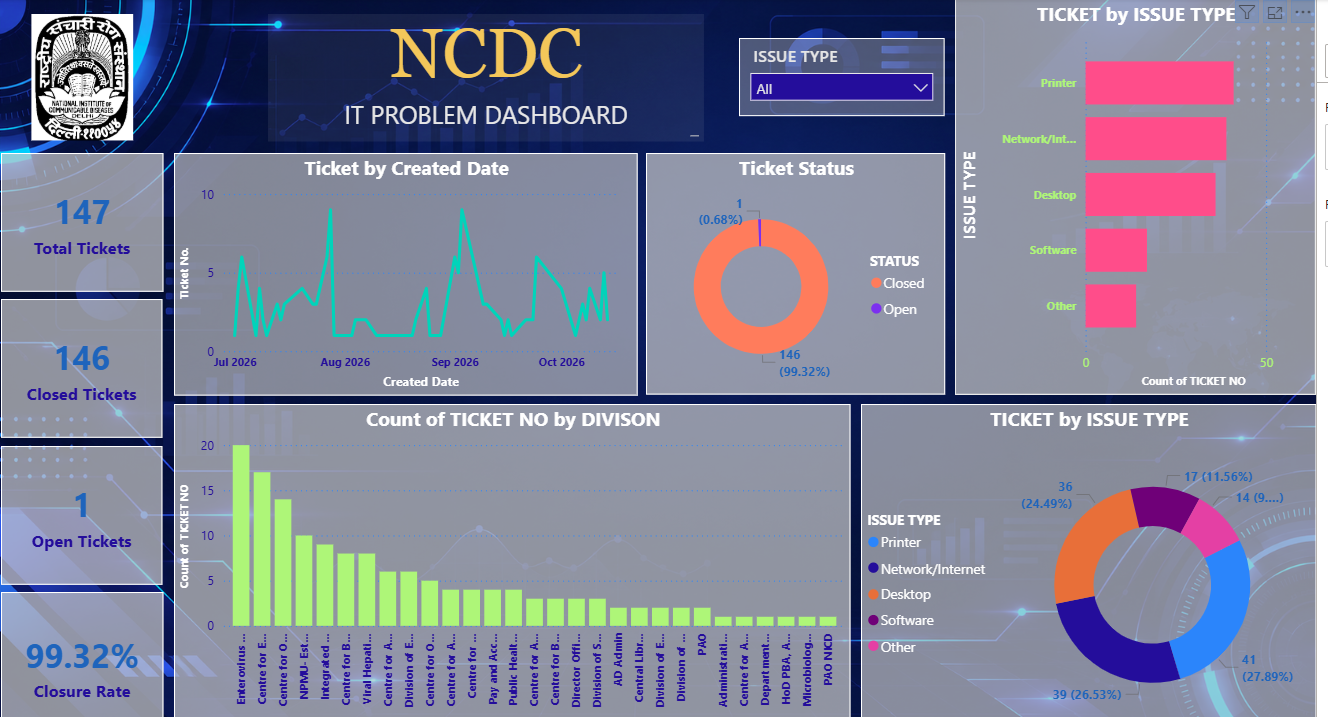

What the dashboard file says about the page in this screenshot:
{"tool":"powerbi","page":{"name":"Page 1","canvas":[1280,720],"ordinal":0},"visuals":[{"type":"card","fields":{"Values":["Ticket Report.Total Tickets"]},"box":[1,149.9,157.9,134.9],"z":0},{"type":"card","fields":{"Values":["Ticket Report.Open Tickets"]},"box":[1,434.7,156.9,134.9],"z":1000},{"type":"card","fields":{"Values":["Ticket Report.Closed Tickets"]},"box":[1,291.8,156.9,134.9],"z":2000},{"type":"card","fields":{"Values":["Ticket Report.Closure Rate"]},"box":[1,576.5,157.9,143.9],"z":3000},{"type":"barChart","title":"TICKET by ISSUE TYPE","fields":{"Category":["Ticket Report.ISSUE TYPE"],"Y":["CountNonNull(Ticket Report.TICKET NO)"]},"box":[929.3,0,350.7,384.7],"z":4000},{"type":"clusteredColumnChart","fields":{"Category":["Ticket Report.DIVISON"],"Y":["CountNonNull(Ticket Report.TICKET NO)"]},"box":[168.9,393.7,658.5,326.7],"z":5000},{"type":"lineChart","title":"Ticket by Created Date","fields":{"Category":["Ticket Report.CREATED DATE"],"Y":["CountNonNull(Ticket Report.TICKET NO)"]},"box":[168.9,149.9,450.6,235.8],"z":6000},{"type":"donutChart","title":"TICKET by ISSUE TYPE","fields":{"Category":["Ticket Report.ISSUE TYPE"],"Y":["CountNonNull(Ticket Report.TICKET NO)"]},"box":[837.3,393.7,442.7,326.7],"z":7000},{"type":"donutChart","title":"Ticket Status","fields":{"Category":["Ticket Report.STATUS"],"Y":["CountNonNull(Ticket Report.TICKET NO)"]},"box":[628.5,149.9,290.8,234.8],"z":8000},{"type":"image","box":[16.5,14.6,126.4,122.6],"z":9000},{"type":"textbox","title":"NCDC ","box":[260.7,14.6,424.1,123.5],"z":10000},{"type":"slicer","fields":{"Values":["Ticket Report.ISSUE TYPE"]},"box":[718.8,37.9,200.4,75.9],"z":11000}]}

Visuals, with their boxes in screenshot pixels (x1, y1, x2, y2):
card - Ticket Report.Total Tickets: (8,152,168,290)
card - Ticket Report.Open Tickets: (8,442,167,579)
card - Ticket Report.Closed Tickets: (8,297,167,434)
card - Ticket Report.Closure Rate: (8,586,168,716)
"TICKET by ISSUE TYPE" barChart: (952,0,1308,391)
clusteredColumnChart - Ticket Report.DIVISON x CountNonNull(Ticket Report.TICKET NO): (179,400,848,716)
"Ticket by Created Date" lineChart: (179,152,637,392)
"TICKET by ISSUE TYPE" donutChart: (858,400,1308,716)
"Ticket Status" donutChart: (646,152,941,391)
image: (24,15,152,139)
"NCDC " textbox: (272,15,703,140)
slicer - Ticket Report.ISSUE TYPE: (738,39,941,116)
